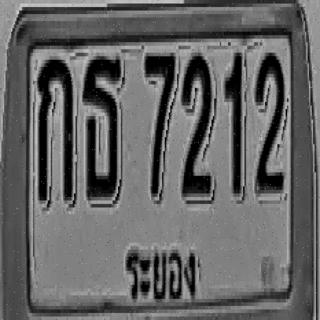A01: (37, 56, 74, 204)
A24: (82, 52, 122, 200)
N01: (224, 49, 243, 197)
N02: (181, 53, 213, 197), (255, 51, 284, 192)
N07: (144, 51, 174, 199)
